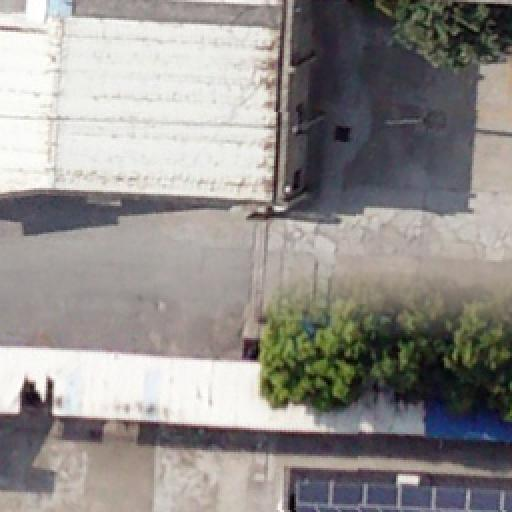solar-panel: (293, 473, 512, 512)
